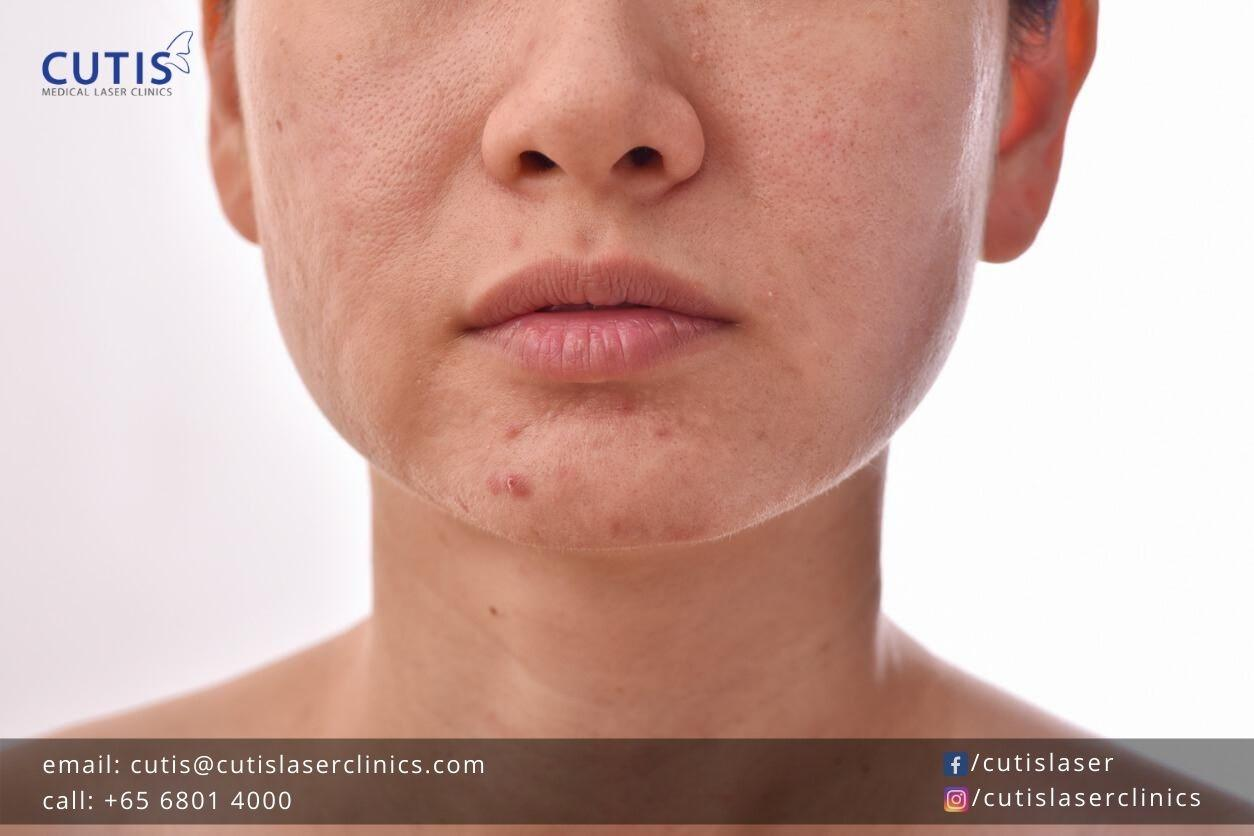Acne: (737, 55, 974, 431), (235, 65, 444, 414), (447, 394, 795, 543)
Dry-Skin: (722, 27, 957, 167), (355, 112, 467, 222)
